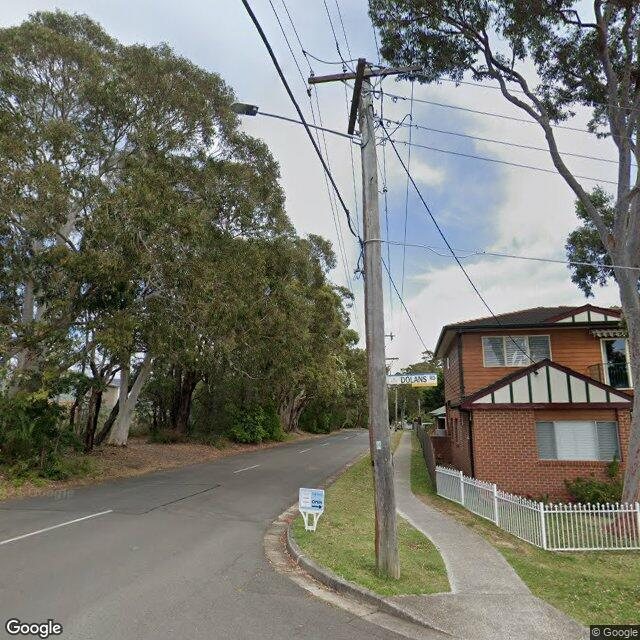crossarm: (308, 62, 426, 86), (345, 57, 367, 137)
streetlight: (229, 100, 364, 142)
timber-pole: (356, 64, 399, 583)
